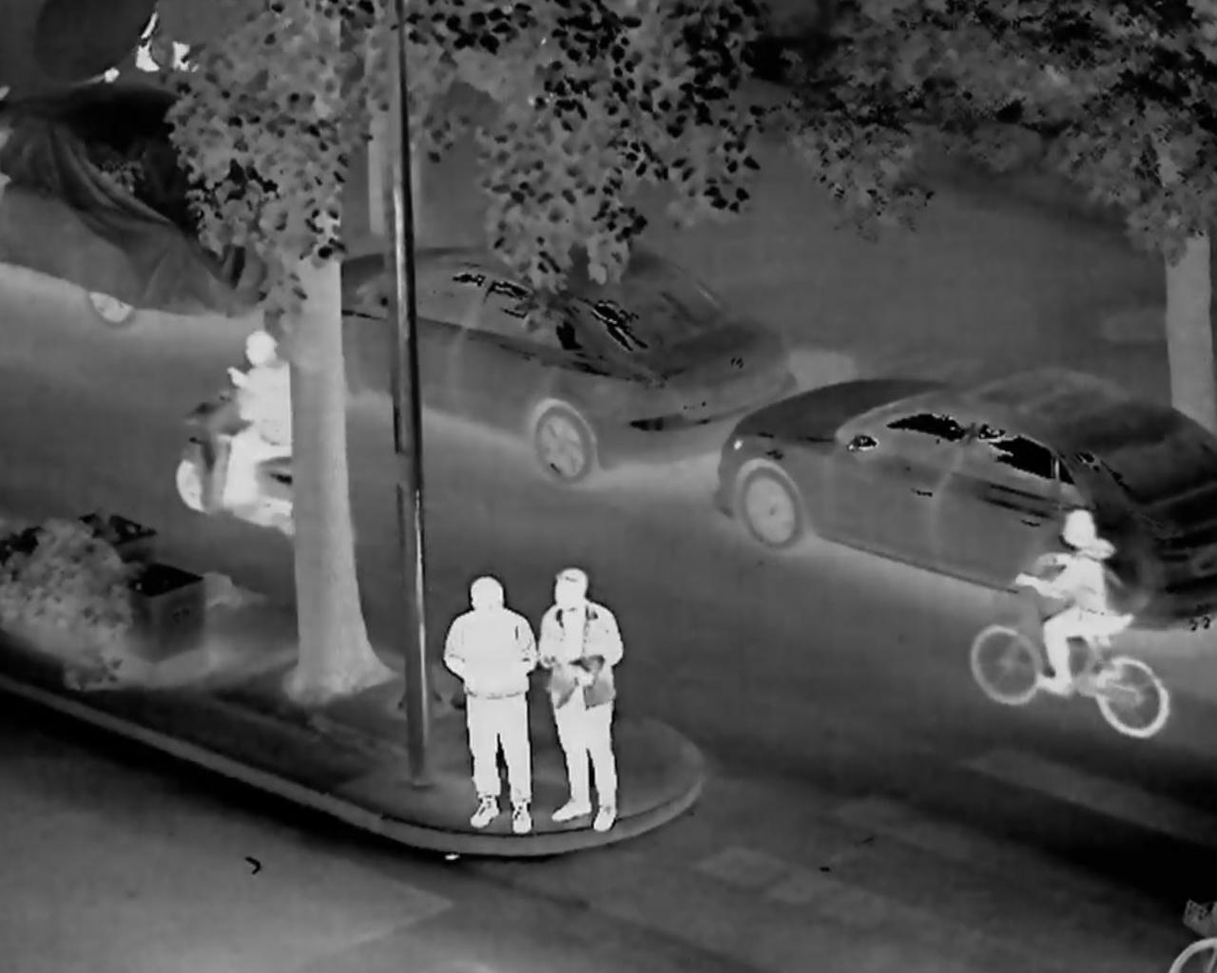person: (426, 575, 551, 833), (531, 553, 633, 840), (1011, 498, 1146, 711), (204, 320, 305, 539)
